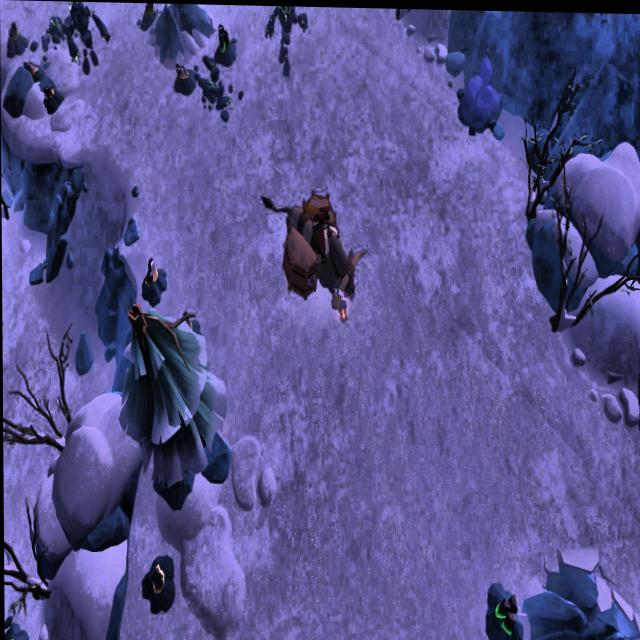ore_t3: (493, 586, 520, 634), (216, 21, 232, 60)
rock_t4: (454, 54, 503, 138)
